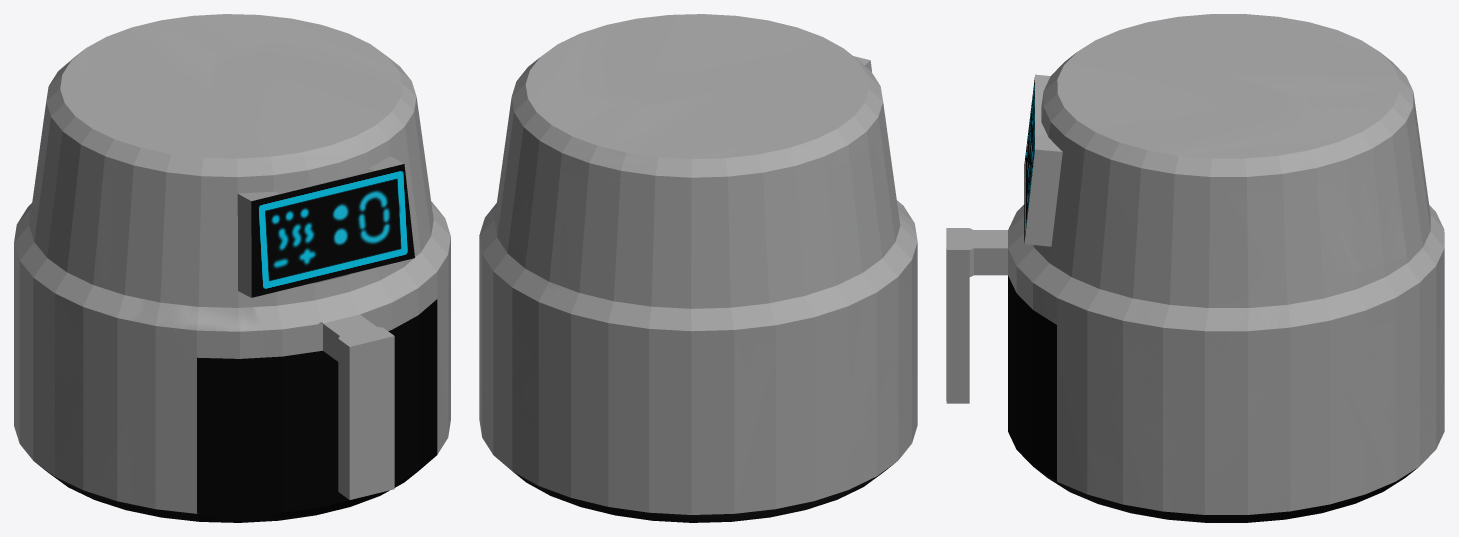
The model's file is AIR FRYER.fbx.
The picture shows the model from 3 angles, left to right: view 1: azimuth 30°, elevation 25°; view 2: azimuth 150°, elevation 25°; view 3: azimuth 270°, elevation 25°; orthographic projection.
Parts seen in each view (by area): view 1: Cylinder; view 2: Cylinder; view 3: Cylinder.
Part boxes in pixels (left/top/right/bottom): Cylinder: left=14, top=14, right=450, bottom=522; Cylinder: left=479, top=14, right=917, bottom=522; Cylinder: left=946, top=14, right=1444, bottom=522.
Bounding box in the file's own units: 37.8 × 33.59 × 43.14.
1 material, 1 textured.
